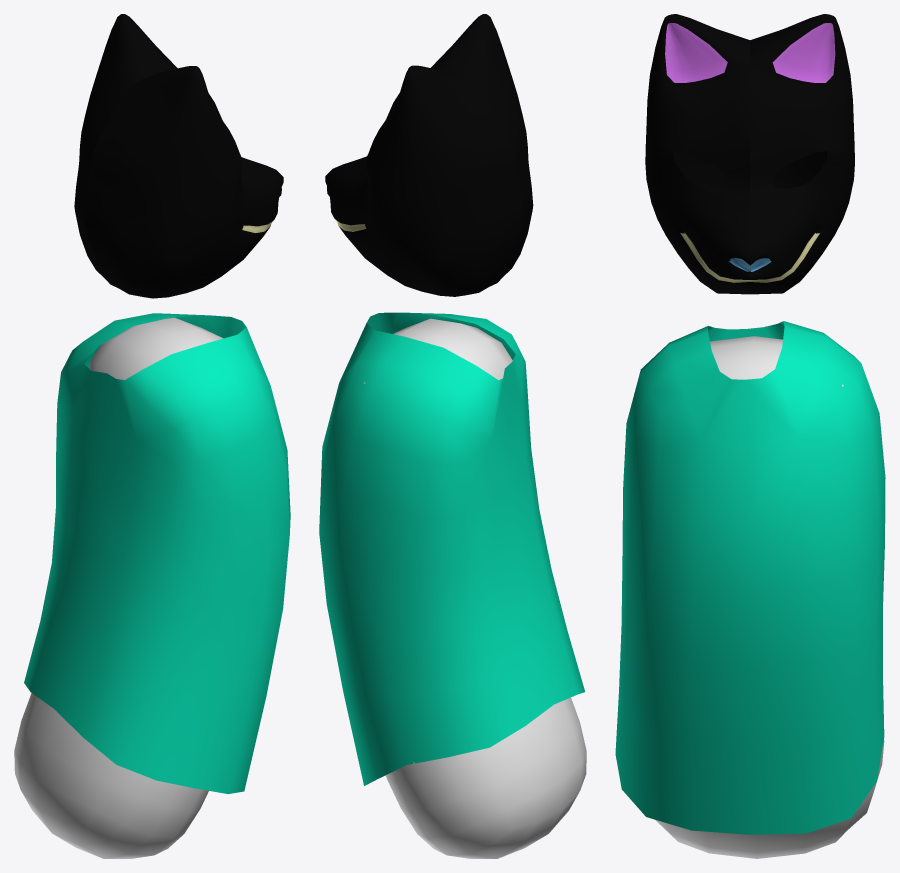
File: NPC 14.fbx
3 renders of one model, left to right at view 1: azimuth 30°, elevation 25°; view 2: azimuth 150°, elevation 25°; view 3: azimuth 270°, elevation 25°, orthographic. The views are drawn at different scales.
Visible parts, largest first — view 1: T-shirt.015, Mask.014, body.015; view 2: T-shirt.015, Mask.014, body.015; view 3: T-shirt.015, Mask.014, body.015.
Part boxes in pixels (left/top/right/bottom): T-shirt.015: left=24, top=313, right=290, bottom=794; Mask.014: left=74, top=14, right=283, bottom=298; body.015: left=14, top=317, right=223, bottom=858; T-shirt.015: left=319, top=312, right=584, bottom=785; Mask.014: left=325, top=14, right=533, bottom=296; body.015: left=363, top=318, right=586, bottom=858; T-shirt.015: left=615, top=321, right=885, bottom=834; Mask.014: left=645, top=14, right=854, bottom=294; body.015: left=655, top=336, right=884, bottom=858.
Size of the model in its own units: 2.38 by 7.48 by 2.12.
